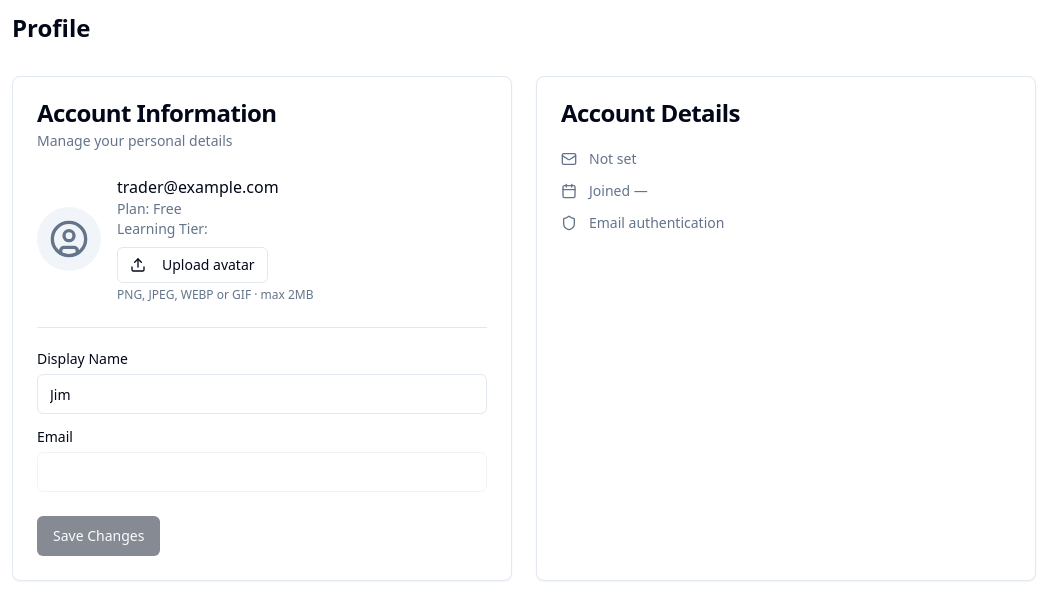
Test: Profile — display name › Save button is disabled while mutation is in flight
Replace the text in the field showing "Jim" with "Jimmy" at (262, 394), box left=37, top=374, right=487, bottom=414
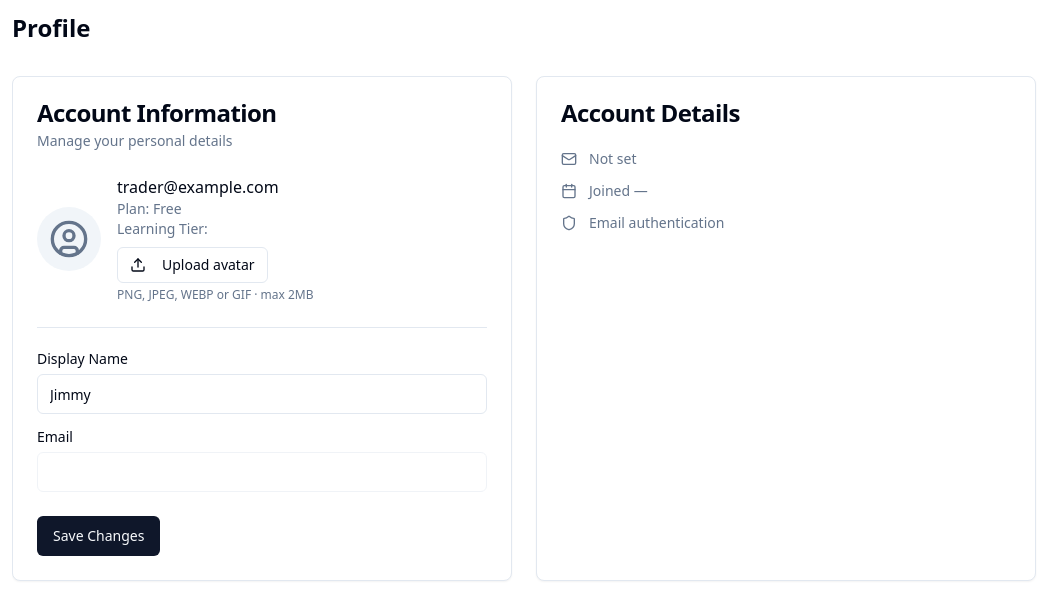
Click the button "Save Changes" at (99, 536), box left=37, top=516, right=160, bottom=556
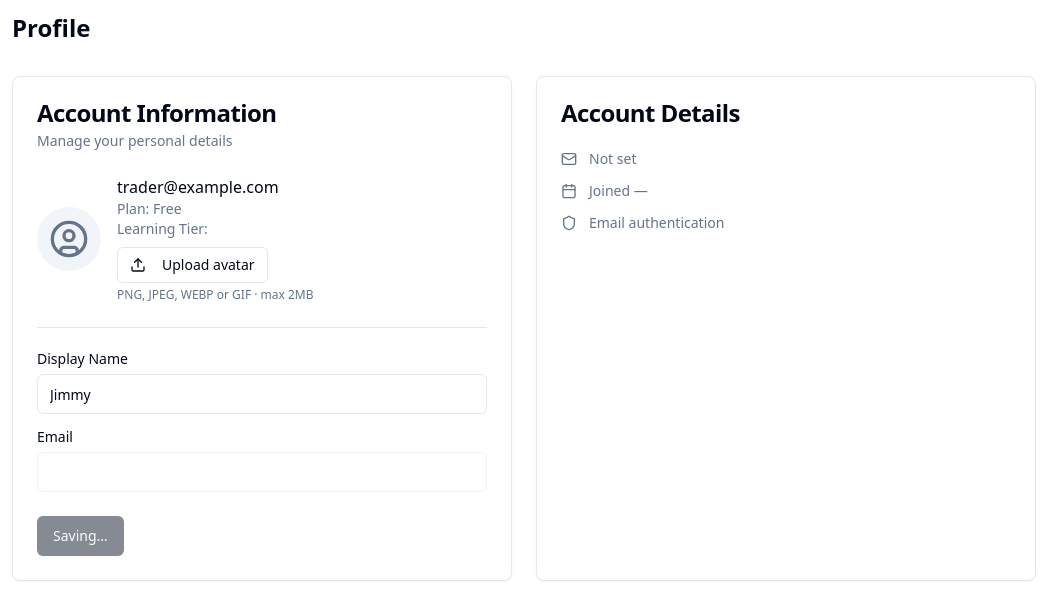
expect the button "Saving…" is disabled: met, box left=37, top=516, right=124, bottom=556
